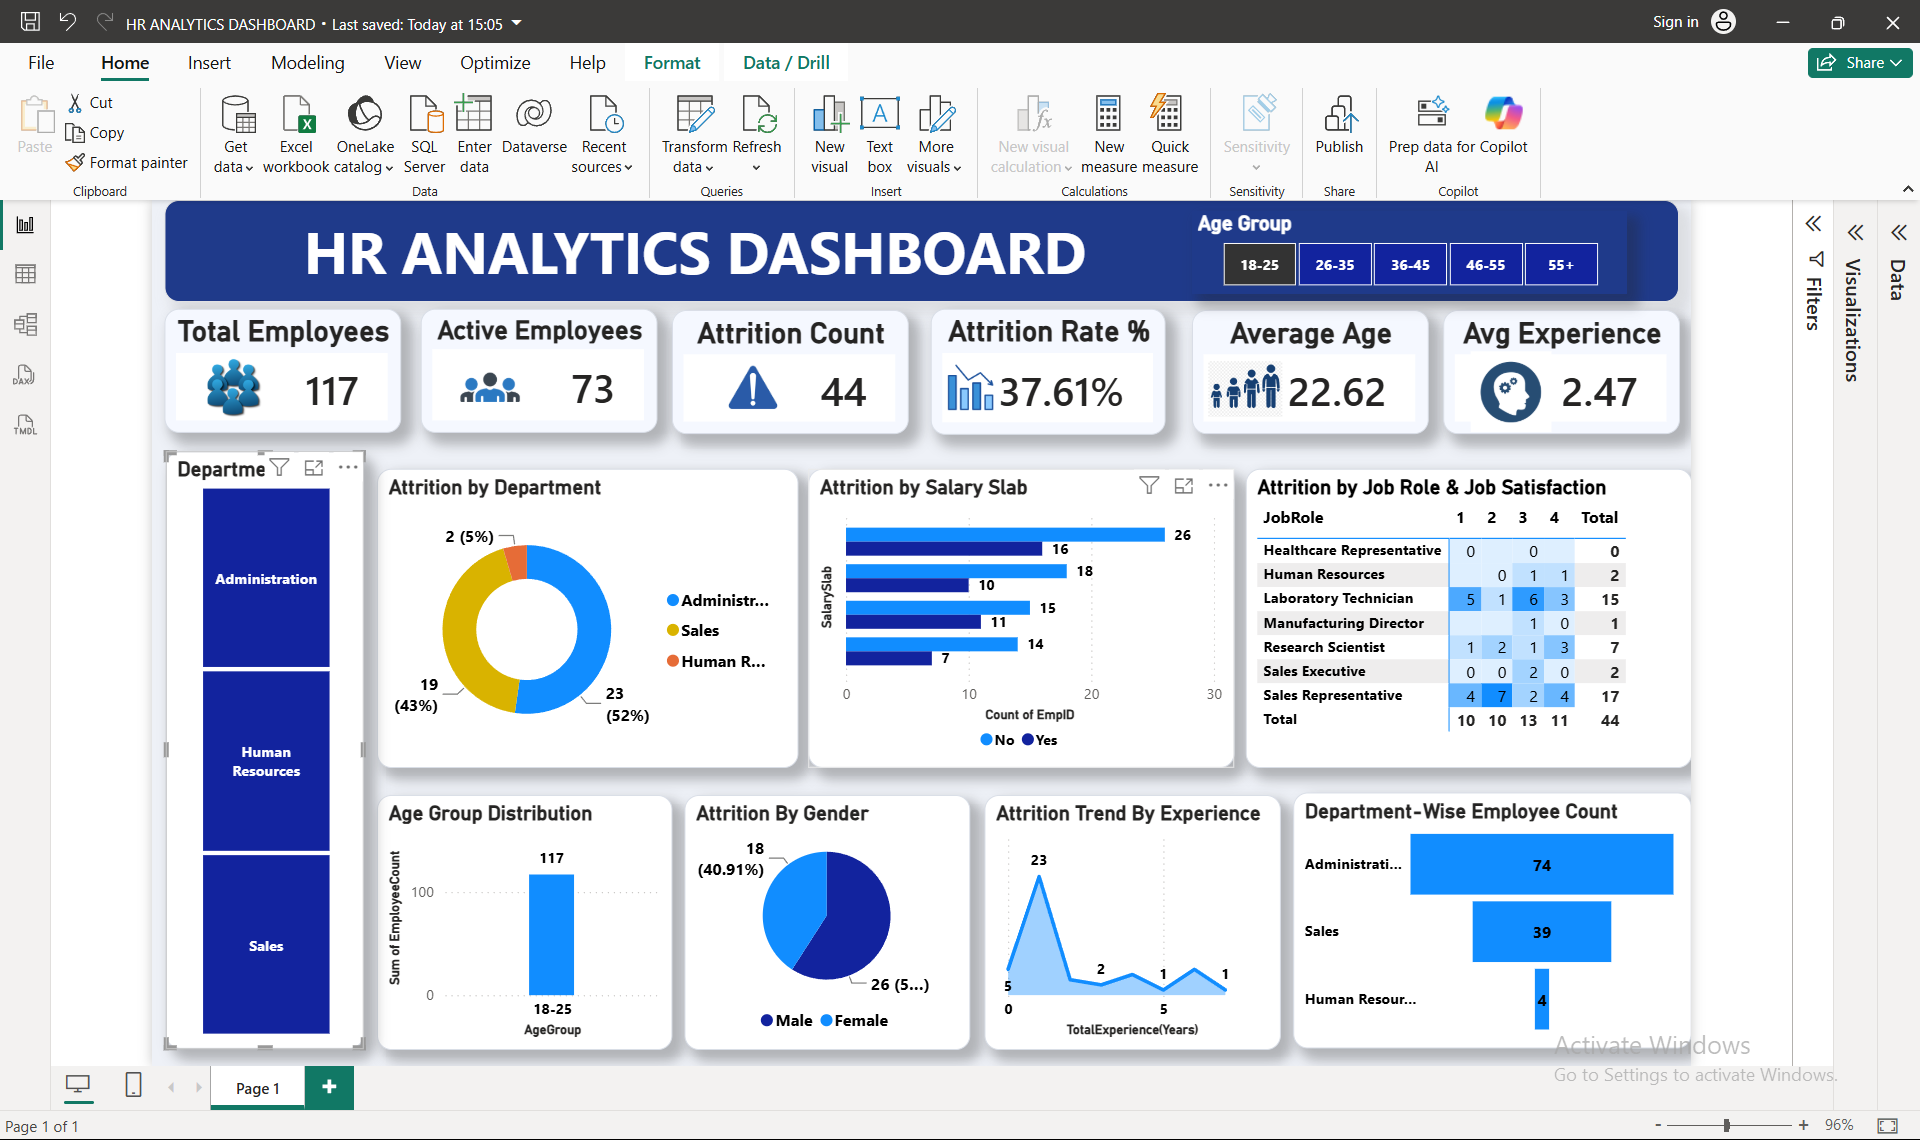

What the dashboard file says about the page in this screenshot:
{"tool":"powerbi","page":{"name":"Page 1","canvas":[1280,720],"ordinal":0},"visuals":[{"type":"textbox","box":[10,0,1259,85],"z":0},{"type":"cardVisual","title":"Total Employees","fields":{"Data":["CountNonNull(HR Analytics Project.EmpID)"]},"box":[10.5,90.7,196.5,103.5],"z":1000},{"type":"cardVisual","title":"Active Employees","fields":{"Data":["CountNonNull(HR Analytics Project.EmployeeNumber)"]},"box":[223.3,90.7,196.5,103.5],"z":2000},{"type":"cardVisual","title":"Average Age","fields":{"Data":["Avg(HR Analytics Project.Age)"]},"box":[865.1,91.9,196.5,103.5],"z":3000},{"type":"cardVisual","title":"Attrition Count","fields":{"Data":["Sum(HR Analytics Project.AttritionCount)"]},"box":[432.6,91.9,196.5,103.5],"z":4000},{"type":"cardVisual","title":"Avg Experience","fields":{"Data":["Avg(HR Analytics Project.YearsatCompany)"]},"box":[1073.3,91.9,196.5,103.5],"z":5000},{"type":"cardVisual","title":"Attrition Rate %","fields":{"Data":["HR Analytics Project.Attrition Rate %"]},"box":[647.7,90.7,195.3,104.7],"z":6000},{"type":"image","box":[21.8,129.9,54,49.9],"z":7000},{"type":"image","box":[232.8,118.5,59.2,74.8],"z":8000},{"type":"image","box":[473.3,125.6,53.5,60.5],"z":9000},{"type":"image","box":[660.5,132.6,39.5,45.3],"z":10000},{"type":"image","box":[877.9,119.8,61.6,75.6],"z":11000},{"type":"image","box":[1089.5,125.6,81.4,67.4],"z":12000},{"type":"donutChart","title":"Attrition by Department","fields":{"Category":["HR Analytics Project.Department"],"Y":["Sum(HR Analytics Project.AttritionCount)"]},"box":[187.2,223.3,350,248.8],"z":13000},{"type":"clusteredBarChart","title":"Attrition by Salary Slab","fields":{"Category":["HR Analytics Project.SalarySlab"],"Y":["CountNonNull(HR Analytics Project.EmpID)"],"Series":["HR Analytics Project.Attrition"]},"box":[545.4,223.3,354.7,248.8],"z":14000},{"type":"pivotTable","title":"Attrition by Job Role & Job Satisfaction","fields":{"Rows":["HR Analytics Project.JobRole"],"Values":["Sum(HR Analytics Project.AttritionCount)"],"Columns":["HR Analytics Project.JobSatisfaction"]},"box":[909.3,223.3,370.9,248.8],"z":15000},{"type":"columnChart","title":"Age Group Distribution","fields":{"Category":["HR Analytics Project.AgeGroup"],"Y":["Sum(HR Analytics Project.EmployeeCount)"]},"box":[187.2,494.2,245.3,211.6],"z":16000},{"type":"pieChart","title":"Attrition By Gender","fields":{"Category":["HR Analytics Project.Gender"],"Y":["Sum(HR Analytics Project.AttritionCount)"]},"box":[443,494.2,237.2,211.6],"z":17000},{"type":"areaChart","title":"Attrition Trend By Experience","fields":{"Category":["HR Analytics Project.TotalExperience(Years)"],"Y2":["Sum(HR Analytics Project.AttritionCount)"]},"box":[691.9,494.2,246.5,211.6],"z":18000},{"type":"funnel","title":"Department-Wise Employee Count","fields":{"Category":["HR Analytics Project.Department"],"Y":["CountNonNull(HR Analytics Project.EmpID)"]},"box":[948.8,492.6,331.5,213],"z":19000},{"type":"slicer","title":"Department","fields":{"Values":["HR Analytics Project.Department"]},"box":[11.6,209.3,165.1,496.5],"z":20000},{"type":"slicer","title":"Age Group","fields":{"Values":["HR Analytics Project.AgeGroup"]},"box":[865.1,9.3,361.6,68.6],"z":21000}]}

Visuals, with their boxes on the page's 1280x720 design canvas (x1, y1, x2, y2). These are canvas units, not pixel positions in the 1920x1140 screenshot, which may show the page scaled, cropped or inside an application window:
textbox: rect(10, 0, 1269, 85)
"Total Employees" cardVisual: rect(10, 91, 207, 194)
"Active Employees" cardVisual: rect(223, 91, 420, 194)
"Average Age" cardVisual: rect(865, 92, 1062, 195)
"Attrition Count" cardVisual: rect(433, 92, 629, 195)
"Avg Experience" cardVisual: rect(1073, 92, 1270, 195)
"Attrition Rate %" cardVisual: rect(648, 91, 843, 195)
image: rect(22, 130, 76, 180)
image: rect(233, 118, 292, 193)
image: rect(473, 126, 527, 186)
image: rect(660, 133, 700, 178)
image: rect(878, 120, 940, 195)
image: rect(1090, 126, 1171, 193)
"Attrition by Department" donutChart: rect(187, 223, 537, 472)
"Attrition by Salary Slab" clusteredBarChart: rect(545, 223, 900, 472)
"Attrition by Job Role & Job Satisfaction" pivotTable: rect(909, 223, 1280, 472)
"Age Group Distribution" columnChart: rect(187, 494, 432, 706)
"Attrition By Gender" pieChart: rect(443, 494, 680, 706)
"Attrition Trend By Experience" areaChart: rect(692, 494, 938, 706)
"Department-Wise Employee Count" funnel: rect(949, 493, 1280, 706)
"Department" slicer: rect(12, 209, 177, 706)
"Age Group" slicer: rect(865, 9, 1227, 78)
